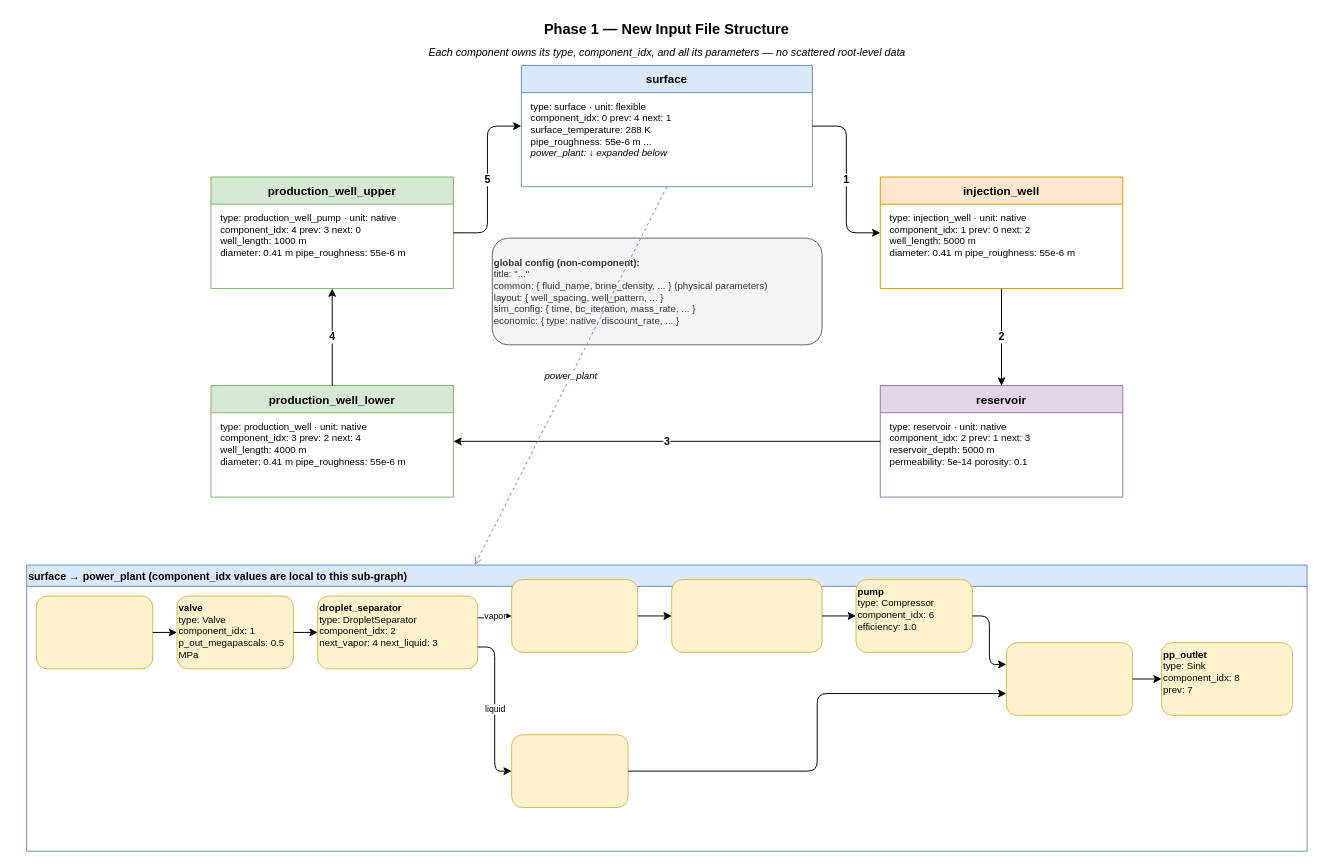
Image size: 1333x868. Some labels were removed from this diagram. The shapes that lost their labels are listed below. From the top down, each one's centre as x and y in pixels, then its label:
point 94,632: inlet type: Source component_idx: 0 next: 1
point 574,615: turbine type: Turbine component_idx: 4 p_out_megapascals: 0.05 MPa
point 746,615: condenser type: SimpleHeatExchanger component_idx: 5 p_out_megapascals: 0.05 MPa
point 1068,678: mixer type: Merge component_idx: 7 prev_1: 6 prev_2: 3
point 569,771: pump2 type: Compressor component_idx: 3 efficiency: 1.0
